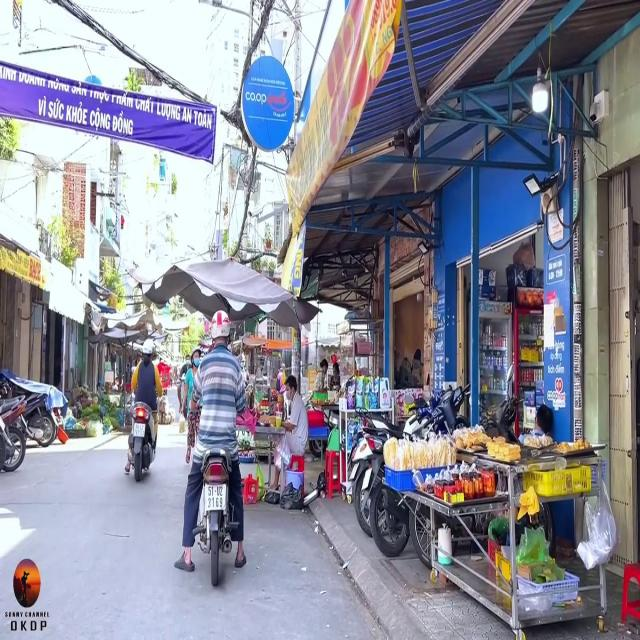bien_trang: (200, 478, 229, 518), (131, 418, 147, 445)
